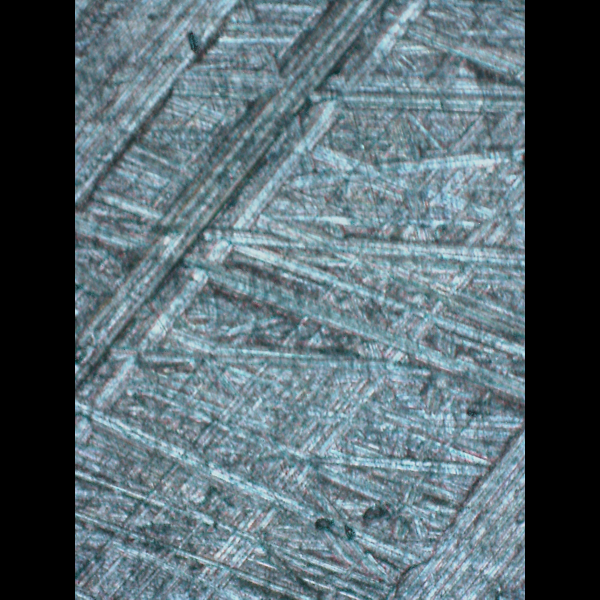d: (74, 0, 444, 444), (386, 413, 524, 599)
